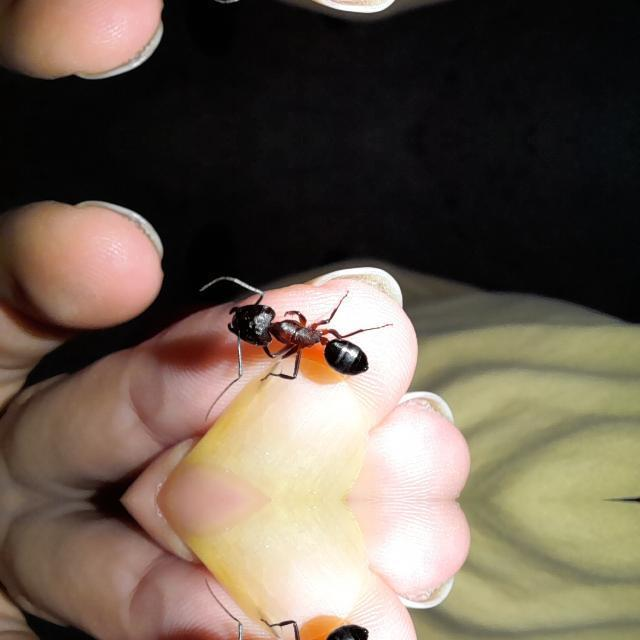Camponotus: (198, 256, 402, 424), (198, 576, 400, 640)
